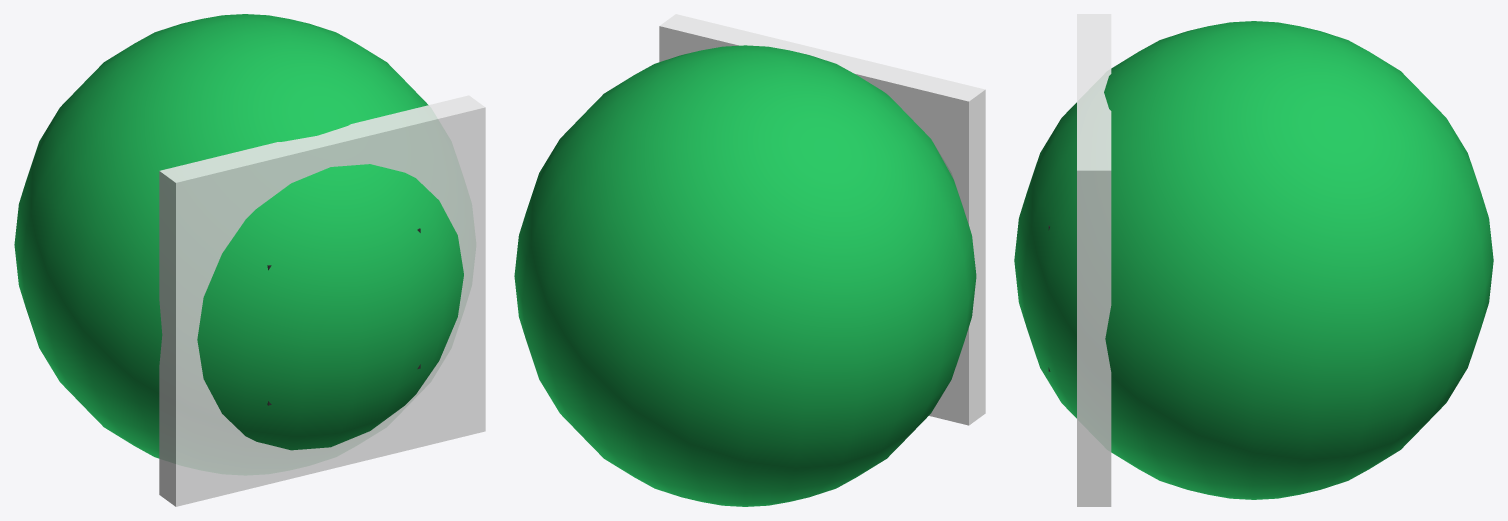
Rendered from oven-electrical.glb.
3 views of the same model, side by side, from view 1: azimuth 30°, elevation 25°; view 2: azimuth 150°, elevation 25°; view 3: azimuth 270°, elevation 25° (orthographic). The views are drawn at different scales.
Parts seen in each view (by area): view 1: oven-electrical; view 2: oven-electrical; view 3: oven-electrical.
Part boxes in pixels (x1,y1,x2,y2): oven-electrical: [14, 14, 485, 506]; oven-electrical: [514, 14, 985, 506]; oven-electrical: [1014, 14, 1493, 506].
Bounding box in the file's own units: 0.84 × 0.84 × 0.84.
